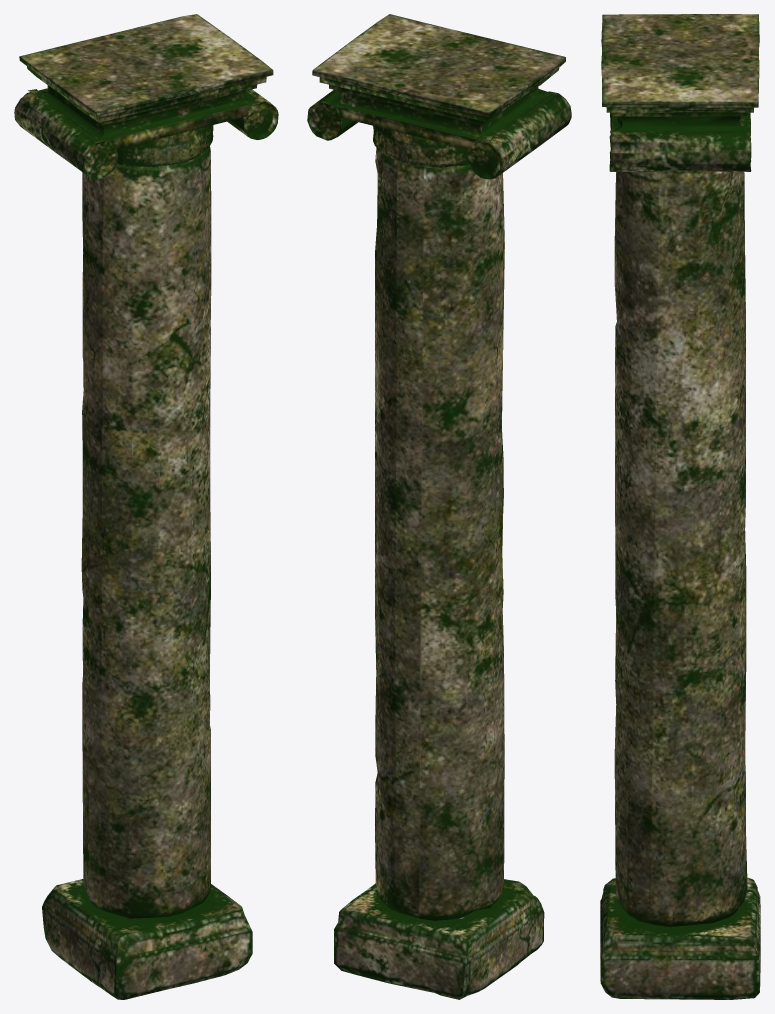
The model's file is pillar-ruin.zfix-v14.lod0.glb.
3 views of the same model, side by side, from view 1: azimuth 30°, elevation 25°; view 2: azimuth 150°, elevation 25°; view 3: azimuth 270°, elevation 25° (orthographic).
Visible parts, largest first — view 1: Pillar_lambert1_0; view 2: Pillar_lambert1_0; view 3: Pillar_lambert1_0.
Part boxes in pixels (x1,y1,x2,y2): Pillar_lambert1_0: (14, 14, 278, 999); Pillar_lambert1_0: (307, 14, 571, 999); Pillar_lambert1_0: (600, 14, 760, 999).
Bounding box in the file's own units: 1.37 × 6 × 0.9578.
Materials: 1 (1 with a texture image).
